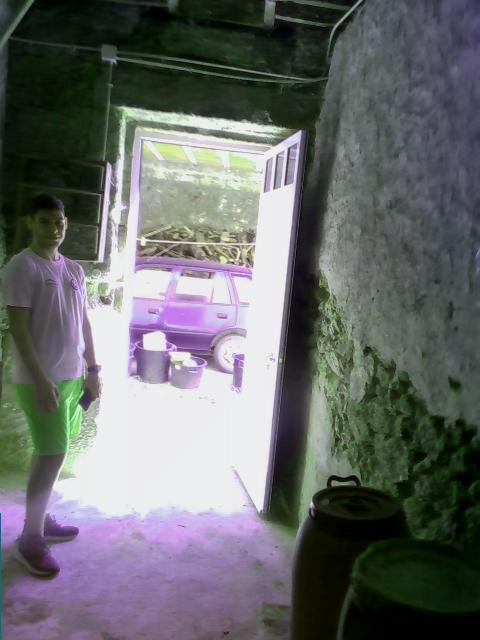open_door: (89, 100, 300, 508)
